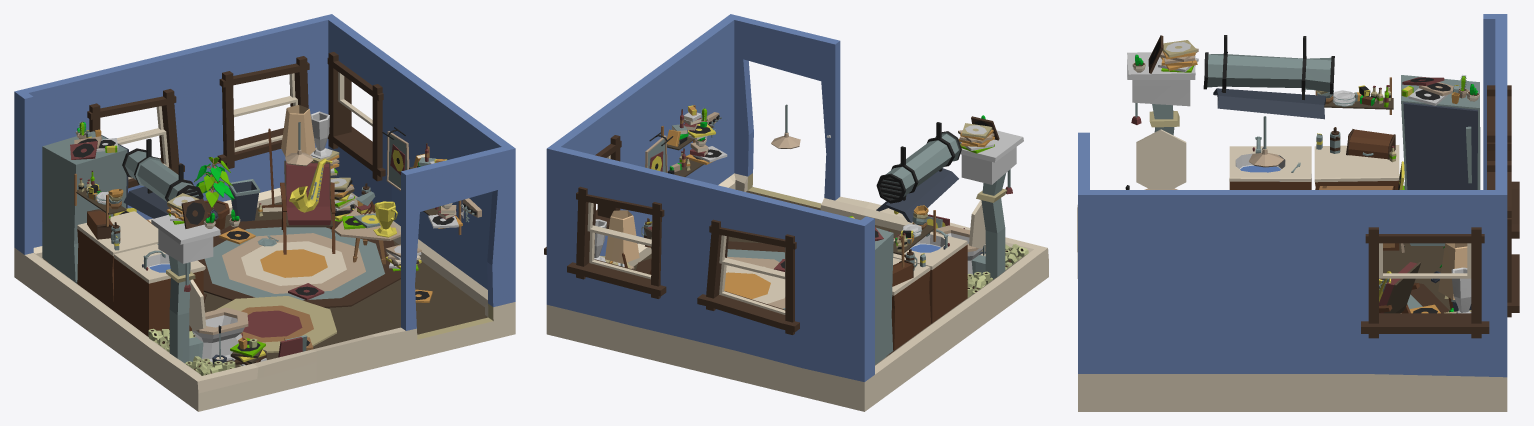
Rendered from 凌乱房间.fbx.
The picture shows the model from 3 angles, left to right: view 1: azimuth 30°, elevation 25°; view 2: azimuth 150°, elevation 25°; view 3: azimuth 270°, elevation 25°; orthographic projection. The views are drawn at different scales.
Visible parts, largest first — view 1: huitugou_2286_394, huitugou_2286_395, huitugou_2286_365, huitugou_2286_396, huitugou_2286_398, huitugou_2286_312, huitugou_2286_333, huitugou_2286_392, huitugou_2286_353, huitugou_2286_311, huitugou_2286_314, huitugou_2286_332 (+29 smaller); view 2: huitugou_2286_394, huitugou_2286_395, huitugou_2286_390, huitugou_2286_392, huitugou_2286_333, huitugou_2286_365, huitugou_2286_377, huitugou_2286_332, huitugou_2286_353, huitugou_2286_298, huitugou_2286_297, huitugou_2286_299 (+12 smaller); view 3: huitugou_2286_394, huitugou_2286_395, huitugou_2286_364, huitugou_2286_398, huitugou_2286_298, huitugou_2286_328, huitugou_2286_376, huitugou_2286_333, huitugou_2286_297, huitugou_2286_352, huitugou_2286_365, huitugou_2286_396 (+13 smaller).
Part boxes in pixels (box(x1,y1,x2,y2)): huitugou_2286_394: box(14, 14, 515, 330); huitugou_2286_395: box(14, 188, 515, 411); huitugou_2286_365: box(42, 131, 127, 283); huitugou_2286_396: box(43, 202, 487, 367); huitugou_2286_398: box(327, 52, 385, 181); huitugou_2286_312: box(204, 227, 384, 300); huitugou_2286_333: box(151, 214, 244, 362); huitugou_2286_392: box(217, 56, 309, 168); huitugou_2286_353: box(114, 258, 203, 336); huitugou_2286_311: box(222, 233, 365, 293); huitugou_2286_314: box(198, 219, 400, 307); huitugou_2286_332: box(168, 255, 203, 363); huitugou_2286_394: box(546, 14, 874, 381); huitugou_2286_395: box(546, 173, 1048, 411); huitugou_2286_390: box(697, 219, 799, 334); huitugou_2286_392: box(567, 186, 666, 298); huitugou_2286_333: box(946, 130, 1023, 274); huitugou_2286_365: box(875, 227, 893, 364); huitugou_2286_377: box(889, 271, 931, 354); huitugou_2286_332: box(971, 169, 1010, 279); huitugou_2286_353: box(929, 245, 967, 323); huitugou_2286_298: box(881, 132, 960, 199); huitugou_2286_297: box(876, 168, 958, 222); huitugou_2286_299: box(876, 122, 961, 203); huitugou_2286_394: box(1078, 14, 1507, 377); huitugou_2286_395: box(1077, 205, 1507, 411); huitugou_2286_364: box(1403, 102, 1477, 189); huitugou_2286_398: box(1361, 227, 1489, 338); huitugou_2286_298: box(1207, 54, 1331, 92); huitugou_2286_328: box(1136, 129, 1186, 189); huitugou_2286_376: box(1314, 145, 1399, 182); huitugou_2286_333: box(1127, 52, 1195, 106); huitugou_2286_297: box(1213, 88, 1325, 119); huitugou_2286_352: box(1229, 146, 1311, 181); huitugou_2286_365: box(1401, 75, 1480, 245); huitugou_2286_396: box(1383, 243, 1450, 310).
Size of the model in its own units: 551 by 304 by 551.
